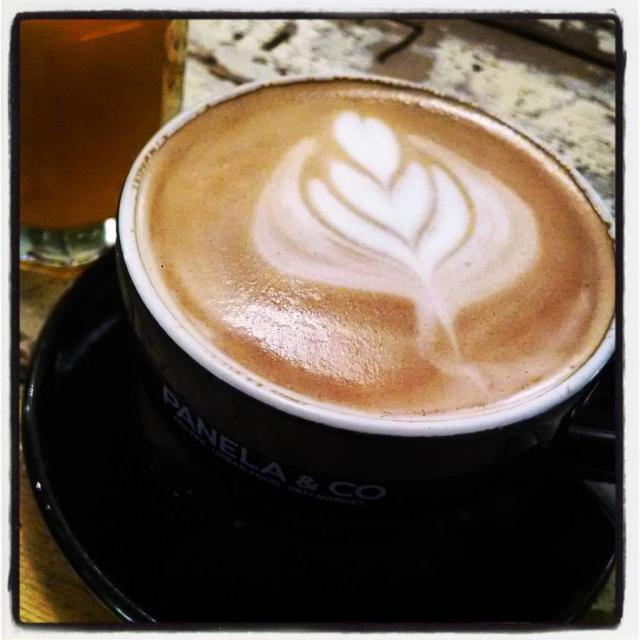Coffee: (132, 72, 616, 412)
